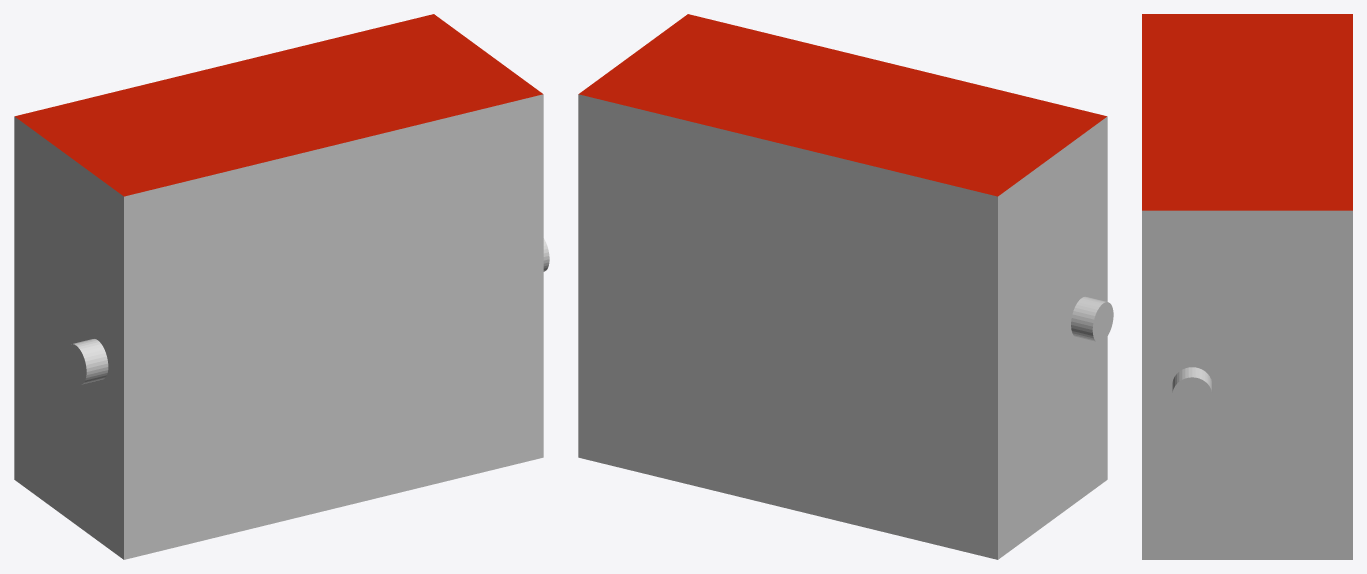
The model's file is BaseLink_Short.dae.
3 renders of one model, left to right at view 1: azimuth 30°, elevation 25°; view 2: azimuth 150°, elevation 25°; view 3: azimuth 270°, elevation 25°, orthographic. The views are drawn at different scales.
Visible parts, largest first — view 1: BaseLink_Short; view 2: BaseLink_Short; view 3: BaseLink_Short.
Part boxes in pixels (<box>): BaseLink_Short: <box>14,14,549,559</box>; BaseLink_Short: <box>578,14,1113,559</box>; BaseLink_Short: <box>1142,14,1352,559</box>.
Bounding box in the file's own units: 0.64 × 0.2625 × 0.48.
